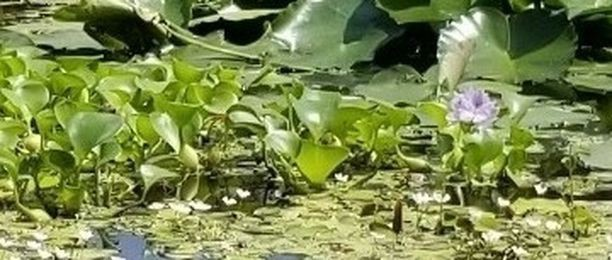water_hyacinth: (4, 52, 542, 214)
